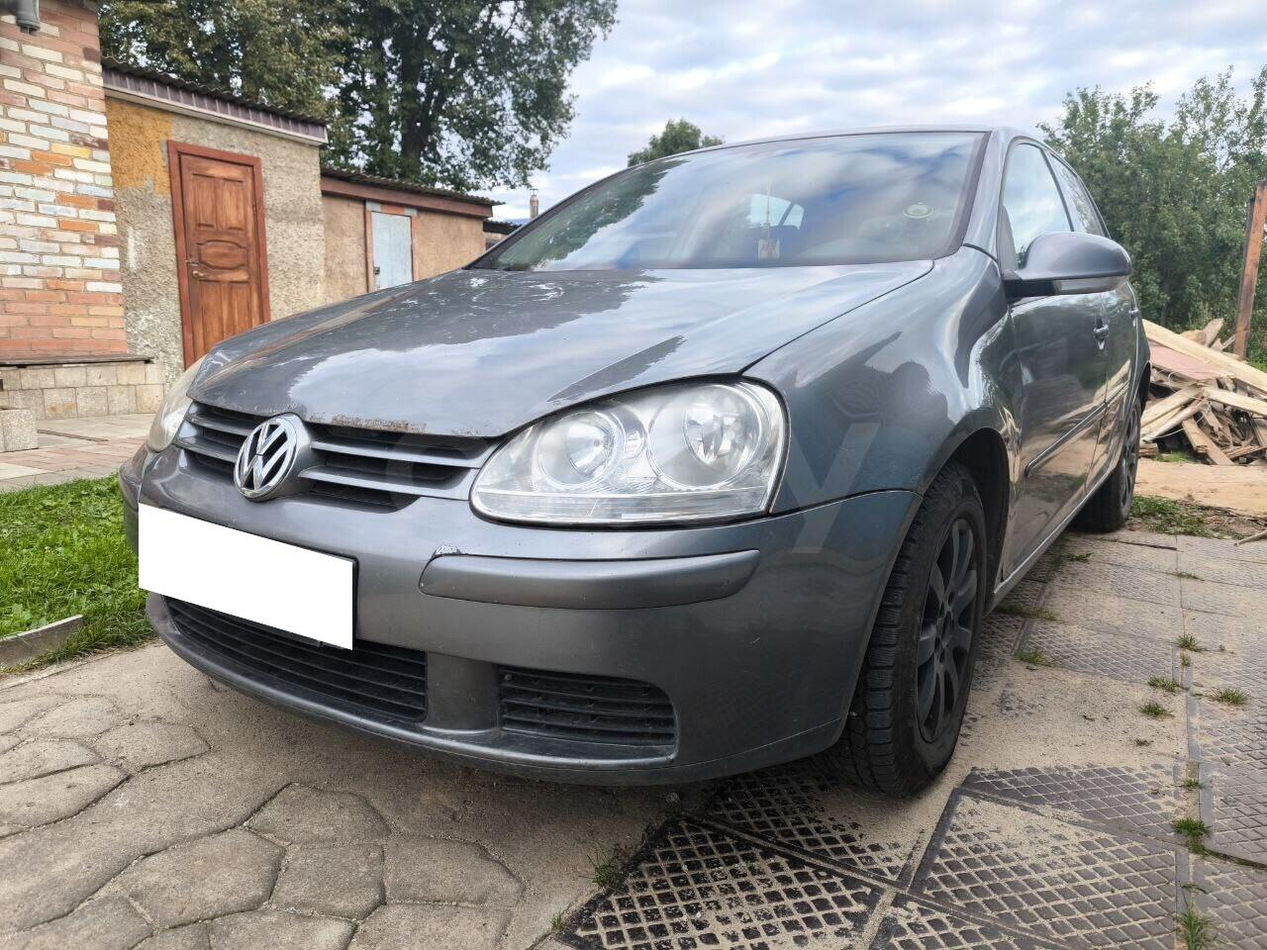Golf_2003-2009: (125, 126, 1152, 788)
